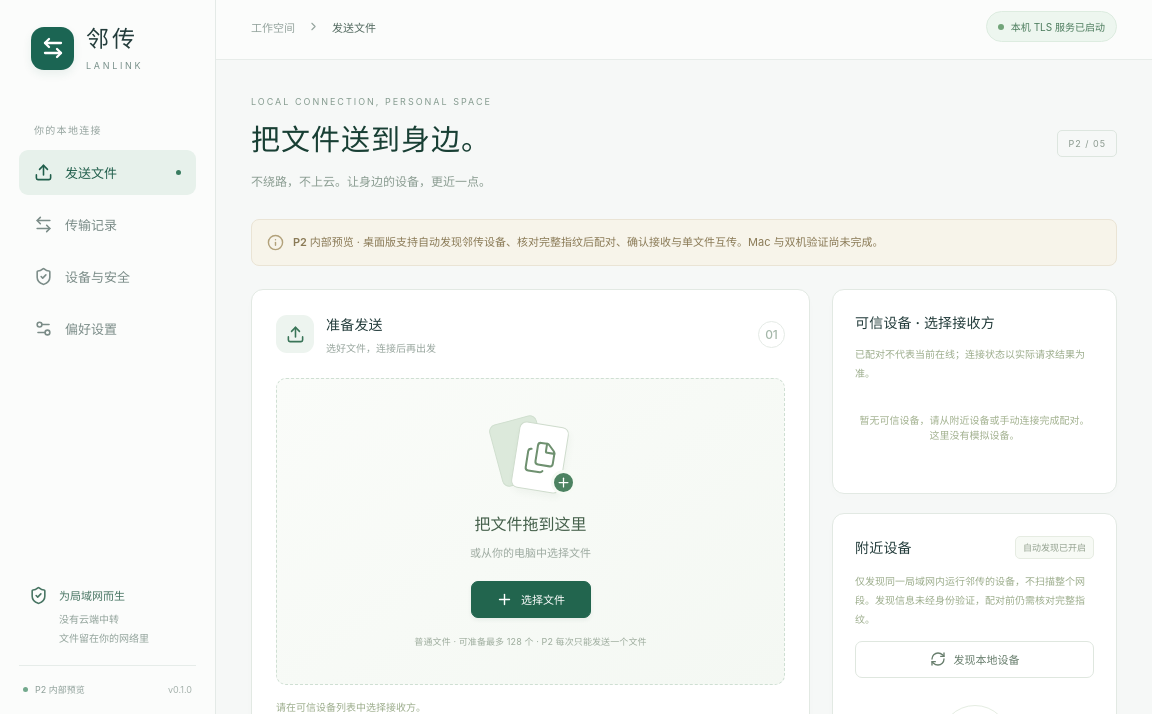
Test: desktop IPC integration › does not pretend to save when the backend rejects the write
This screenshot has width=1152, height=714.
Step 1. Click the button "偏好设置" → (108, 328), box [19,306,196,351]
(page scrolled)
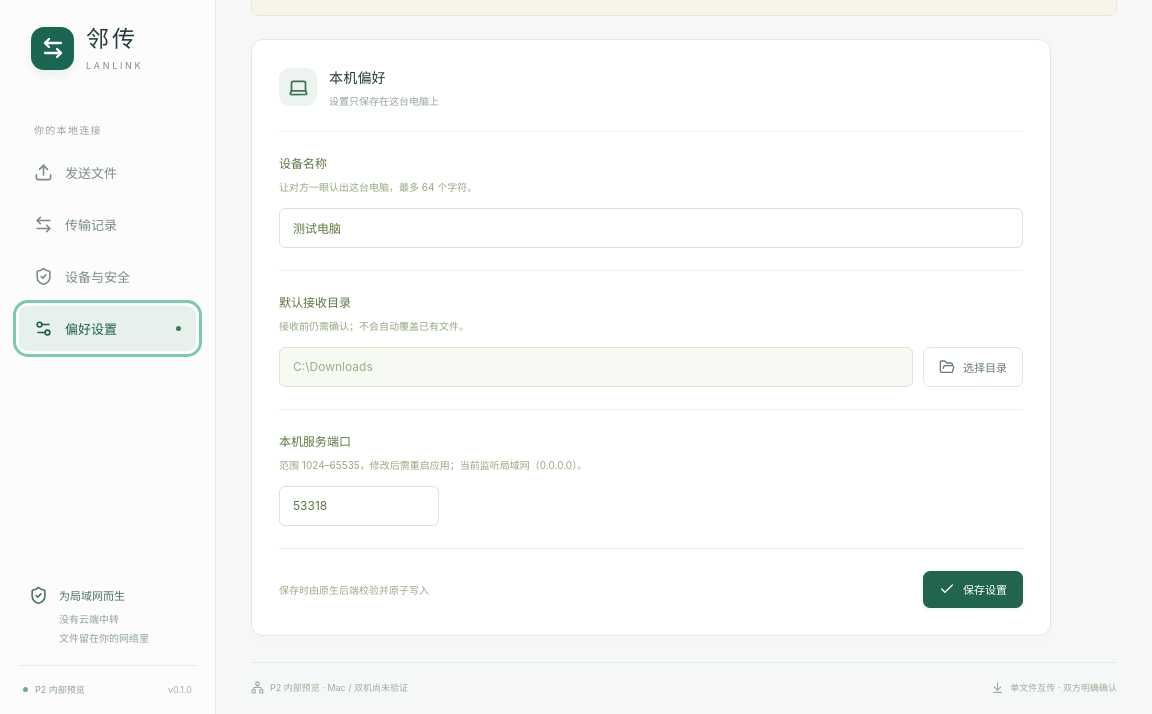
Step 2. Click the button "保存设置" → (973, 589), box [923,571,1023,608]
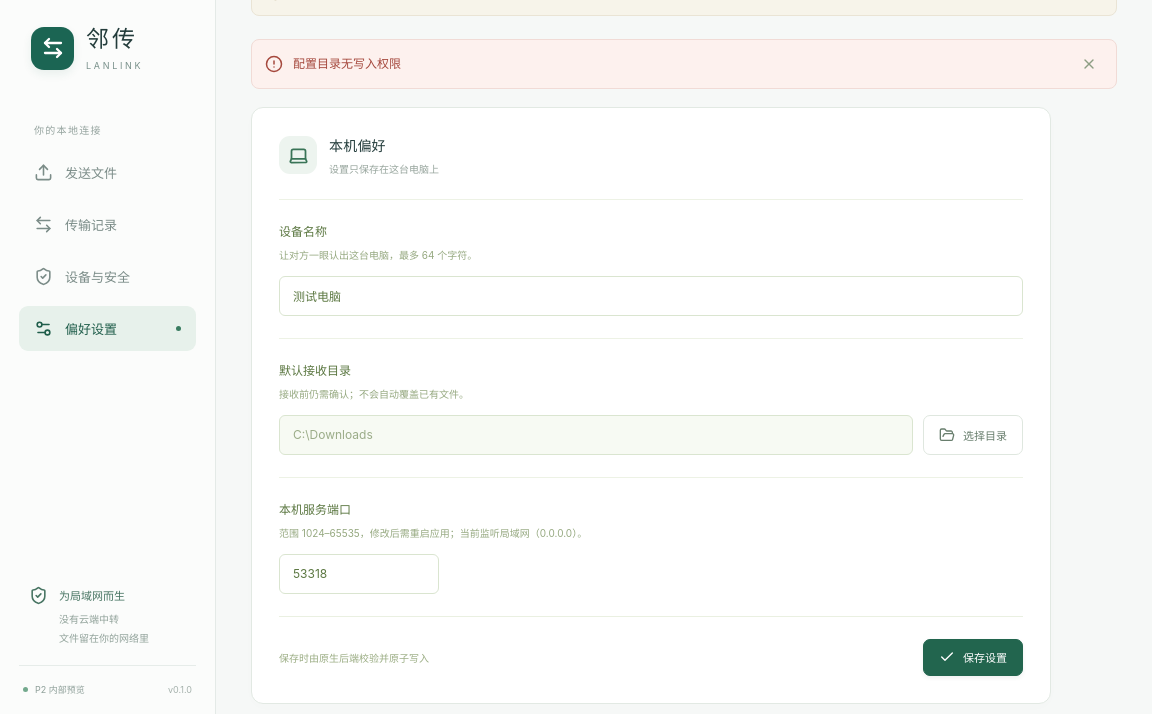
Now the message shows "无写入权限", box [293,56,401,71]
